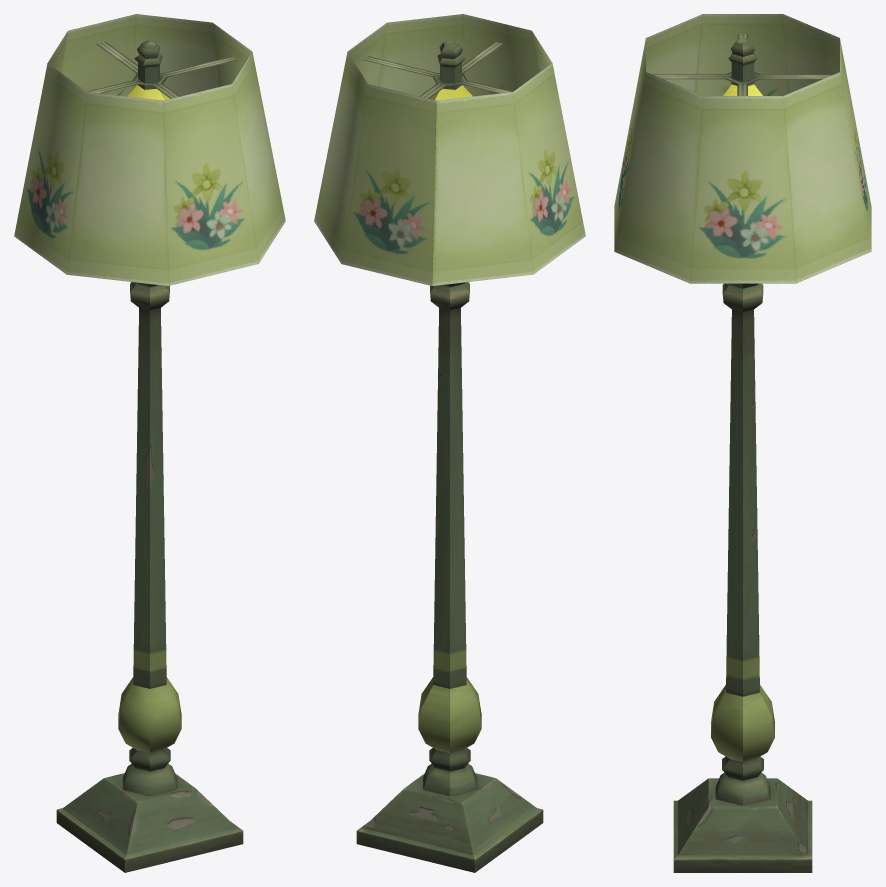
The model's file is lamp.gltf.
3 renders of one model, left to right at view 1: azimuth 30°, elevation 25°; view 2: azimuth 150°, elevation 25°; view 3: azimuth 270°, elevation 25°, orthographic.
Parts seen in each view (by area): view 1: s4studio_mesh_1; view 2: s4studio_mesh_1; view 3: s4studio_mesh_1.
Boxes of the visible parts, left/top/right/bottom form: s4studio_mesh_1: left=14, top=14, right=285, bottom=872; s4studio_mesh_1: left=314, top=14, right=585, bottom=872; s4studio_mesh_1: left=614, top=14, right=871, bottom=872.
Bounding box in the file's own units: 0.5075 × 1.75 × 0.5075.
1 material, 1 textured.
